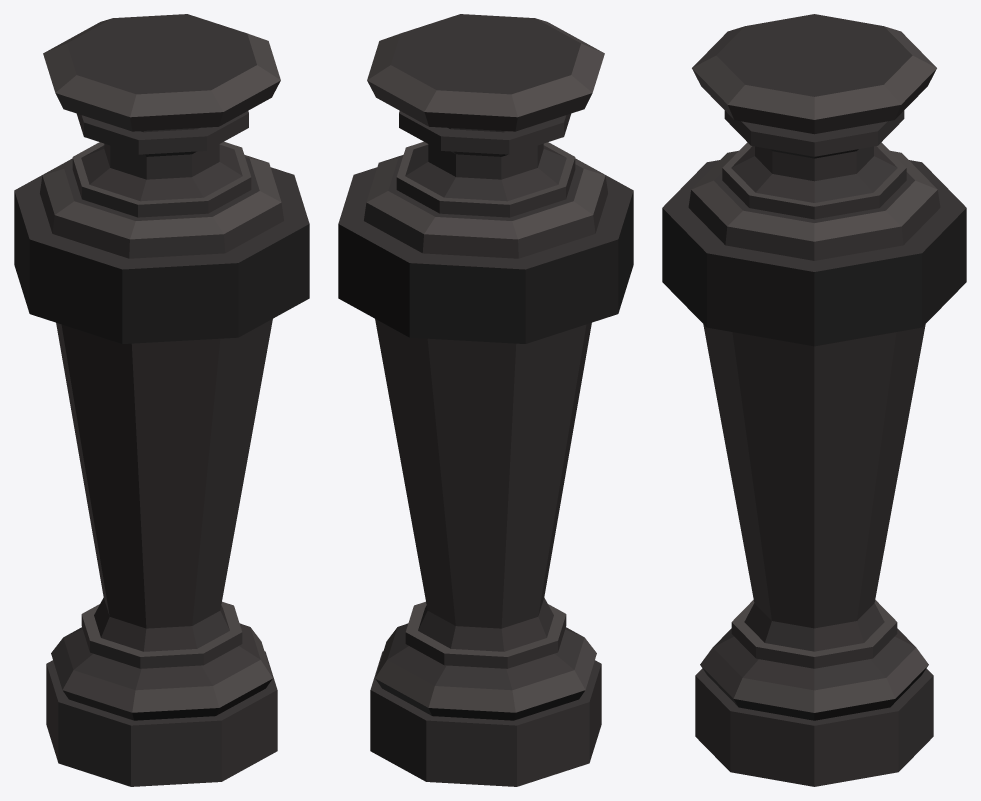
The model's file is Pillar_Cylinder_02.glb.
3 views of the same model, side by side, from view 1: azimuth 30°, elevation 25°; view 2: azimuth 150°, elevation 25°; view 3: azimuth 270°, elevation 25° (orthographic).
Parts seen in each view (by area): view 1: Pillar_Cylinder_02; view 2: Pillar_Cylinder_02; view 3: Pillar_Cylinder_02.
Part boxes in pixels (box(x1,y1,x2,y2)): Pillar_Cylinder_02: box(14, 14, 309, 786); Pillar_Cylinder_02: box(338, 14, 633, 786); Pillar_Cylinder_02: box(662, 14, 966, 786).
Size of what is drawn, in the model's own units: 0.5568 by 1.37 by 0.5568.
1 material, 1 textured.
